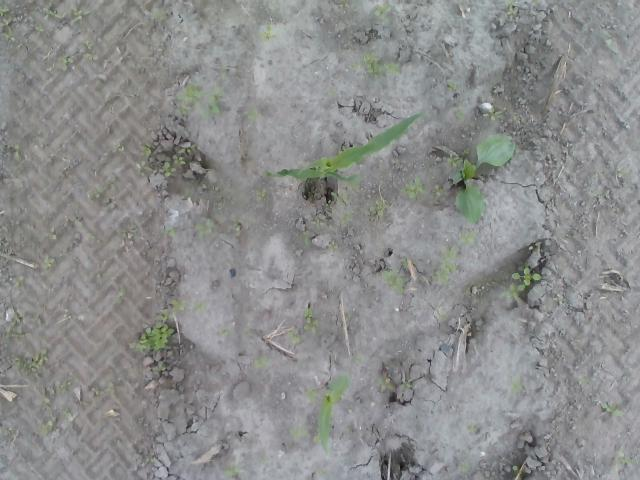Maize: (258, 113, 424, 182), (316, 372, 354, 457)
Weeds: (446, 133, 516, 223), (173, 82, 225, 115), (498, 268, 542, 304), (128, 321, 176, 352), (350, 50, 401, 78), (432, 246, 460, 286), (86, 176, 118, 208), (2, 348, 48, 370), (32, 382, 66, 406), (380, 268, 410, 293), (398, 176, 424, 200), (302, 306, 322, 337), (136, 142, 154, 176), (612, 446, 636, 471), (1, 318, 24, 343), (159, 298, 185, 320), (0, 5, 14, 40), (257, 23, 279, 44), (194, 220, 216, 240), (370, 198, 391, 218), (118, 223, 140, 241), (254, 186, 270, 210), (270, 0, 290, 19), (174, 148, 192, 169), (287, 424, 308, 442), (481, 107, 504, 122), (457, 230, 478, 246), (286, 326, 302, 346), (375, 376, 395, 392), (331, 190, 352, 205), (602, 402, 624, 416), (432, 303, 448, 322), (372, 2, 392, 17), (159, 161, 176, 178), (44, 3, 62, 19), (68, 6, 80, 30), (598, 28, 612, 48), (510, 374, 522, 396), (90, 386, 112, 398), (41, 415, 54, 435), (150, 6, 166, 22), (240, 108, 258, 122), (506, 0, 520, 18), (158, 224, 176, 238), (114, 286, 128, 304), (221, 464, 240, 477), (433, 182, 448, 198), (80, 224, 94, 241), (444, 78, 458, 94), (192, 300, 208, 314), (40, 254, 54, 270), (0, 424, 15, 438), (303, 387, 319, 400), (84, 40, 93, 63), (253, 356, 270, 368), (398, 380, 416, 391), (339, 210, 352, 225), (615, 167, 631, 179), (459, 462, 474, 474), (230, 214, 240, 232), (110, 142, 126, 153), (152, 362, 166, 374), (302, 230, 312, 246), (48, 224, 58, 240), (310, 214, 322, 226), (578, 374, 590, 386), (58, 55, 71, 66), (352, 354, 363, 366), (467, 422, 478, 434), (552, 293, 564, 304), (14, 144, 22, 160), (400, 255, 409, 269), (327, 86, 338, 97), (338, 0, 353, 8), (454, 110, 464, 122), (328, 240, 338, 252), (33, 22, 45, 32), (218, 327, 230, 337), (144, 455, 154, 464), (15, 280, 24, 289), (258, 456, 268, 464), (64, 407, 72, 416), (512, 465, 518, 472)
